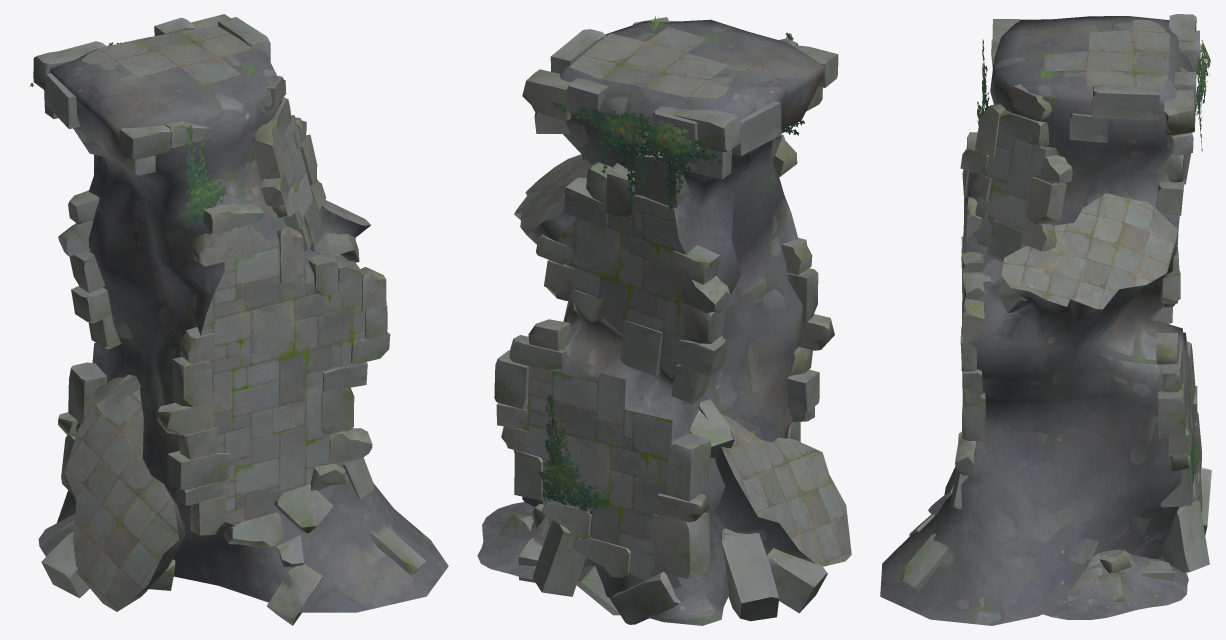
The model's file is Area_MdBuild_SdWall01_04_Group.fbx.
3 renders of one model, left to right at view 1: azimuth 30°, elevation 25°; view 2: azimuth 150°, elevation 25°; view 3: azimuth 270°, elevation 25°, orthographic. The views are drawn at different scales.
Visible parts, largest first — view 1: Area_MdBuild_SdWall01_04_Lod0, Stages_LYLvy04_Vo (2); view 2: Area_MdBuild_SdWall01_04_Lod0, Stages_LYLvy03_Vo (1), Area_MdBuild_SdRuins07_08_Vo, Stages_LYLvy04_Vo (1); view 3: Area_MdBuild_SdWall01_04_Lod0, Area_MdBuild_SdRuins07_08_Vo, Stages_LYLvy03_Vo (1).
Part boxes in pixels (x1,y1,x2,y2): Area_MdBuild_SdWall01_04_Lod0: (33,14,448,625); Stages_LYLvy04_Vo (2): (180,125,227,226); Area_MdBuild_SdWall01_04_Lod0: (494,17,851,625); Stages_LYLvy03_Vo (1): (548,101,722,209); Area_MdBuild_SdRuins07_08_Vo: (477,502,550,582); Stages_LYLvy04_Vo (1): (538,395,608,514); Area_MdBuild_SdWall01_04_Lod0: (880,14,1211,625); Area_MdBuild_SdRuins07_08_Vo: (1043,549,1188,619); Stages_LYLvy03_Vo (1): (1194,40,1210,151).
Bounding box in the file's own units: 13.42 × 20.24 × 11.83.
7 materials, 7 textured.
